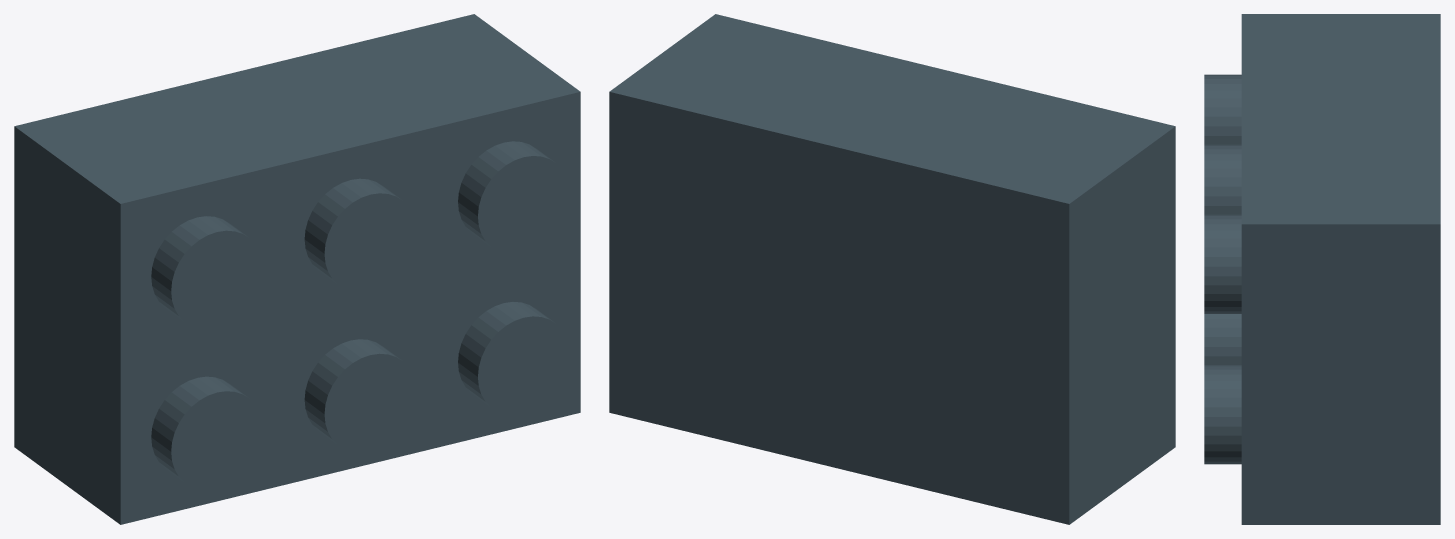
Rendered from brick_3.glb.
3 renders of one model, left to right at view 1: azimuth 30°, elevation 25°; view 2: azimuth 150°, elevation 25°; view 3: azimuth 270°, elevation 25°, orthographic. The views are drawn at different scales.
Parts seen in each view (by area): view 1: world; view 2: world; view 3: world.
Boxes of the visible parts, x1=… form: world: x1=14, y1=14, x2=580, y2=524; world: x1=609, y1=14, x2=1175, y2=524; world: x1=1204, y1=14, x2=1440, y2=524.
Bounding box in the file's own units: 24 × 16 × 11.4.
